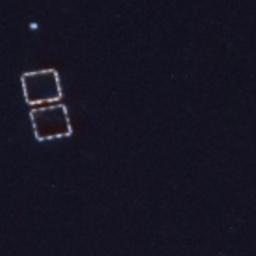square_solid: (26, 101, 77, 145), (16, 65, 68, 107)
